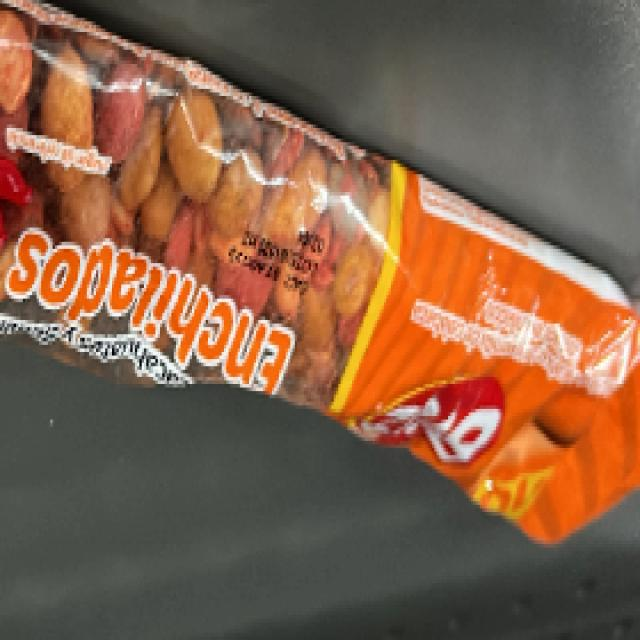bitzEnchilado95: (9, 94, 632, 422)
